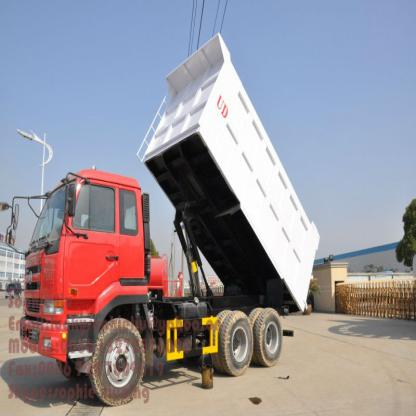dump_truck: (18, 19, 321, 412)
